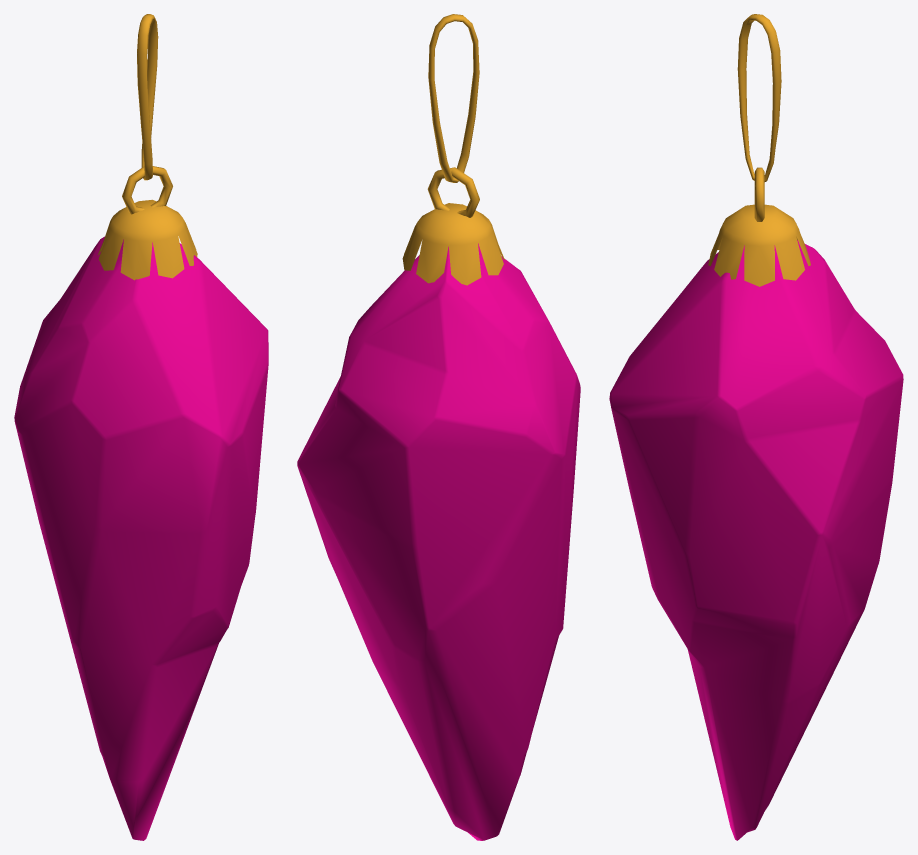
The model's file is Ball_15_Sponsor.fbx.
The picture shows the model from 3 angles, left to right: view 1: azimuth 30°, elevation 25°; view 2: azimuth 150°, elevation 25°; view 3: azimuth 270°, elevation 25°; orthographic projection. The views are drawn at different scales.
Visible parts, largest first — view 1: Ball_15_Sponsor; view 2: Ball_15_Sponsor; view 3: Ball_15_Sponsor.
Part boxes in pixels (box(x1,y1,x2,y2)): Ball_15_Sponsor: box(14, 14, 268, 840); Ball_15_Sponsor: box(297, 14, 580, 840); Ball_15_Sponsor: box(609, 14, 903, 840).
Size of the model in its own units: 4.34 by 13.95 by 4.47.
